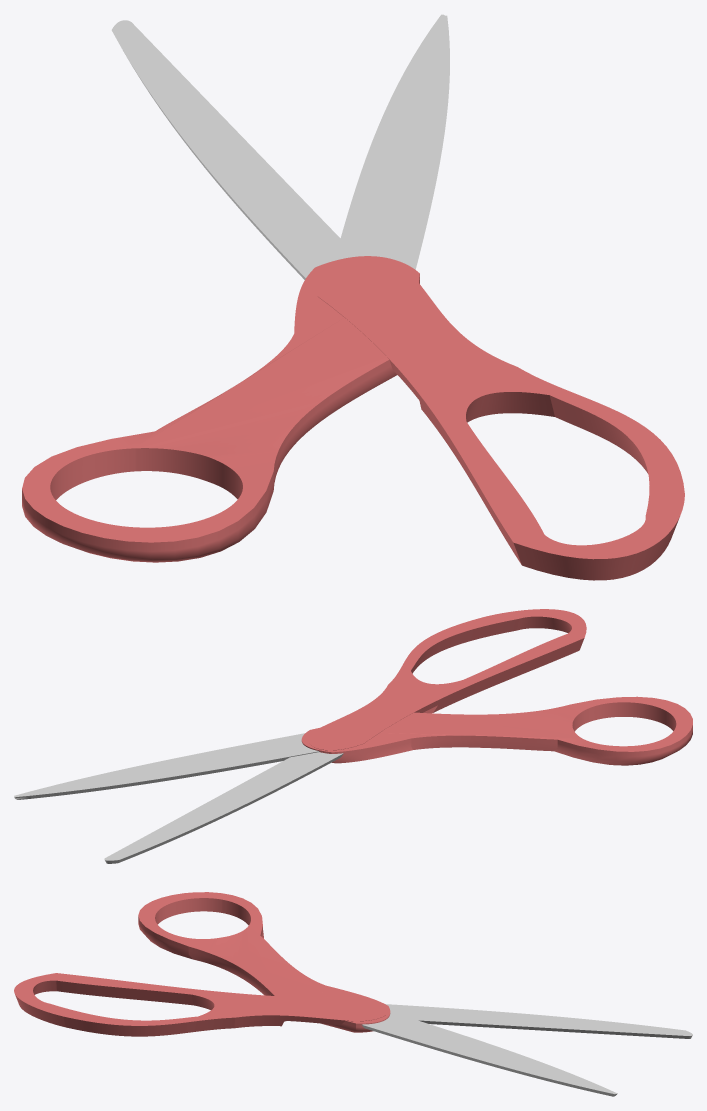
File: scissorsSingle.fbx
3 renders of one model, top to bottom at view 1: azimuth 30°, elevation 25°; view 2: azimuth 150°, elevation 25°; view 3: azimuth 270°, elevation 25°, orthographic. The views are drawn at different scales.
Parts seen in each view (by area): view 1: Line07, Line05; view 2: Line07, Line05; view 3: Line05, Line07.
Part boxes in pixels (left/top/right/bottom): Line07: left=22, top=14, right=449, bottom=562; Line05: left=111, top=20, right=684, bottom=580; Line07: left=14, top=696, right=692, bottom=799; Line05: left=104, top=609, right=586, bottom=863; Line05: left=14, top=973, right=692, bottom=1038; Line07: left=138, top=892, right=617, bottom=1096.
Bounding box in the file's own units: 336 × 10.74 × 483.
